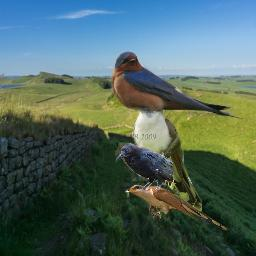Crow: (115, 142, 173, 190)
Cuckoo: (125, 89, 202, 211), (123, 184, 229, 231)
Swallow: (110, 51, 244, 120)
